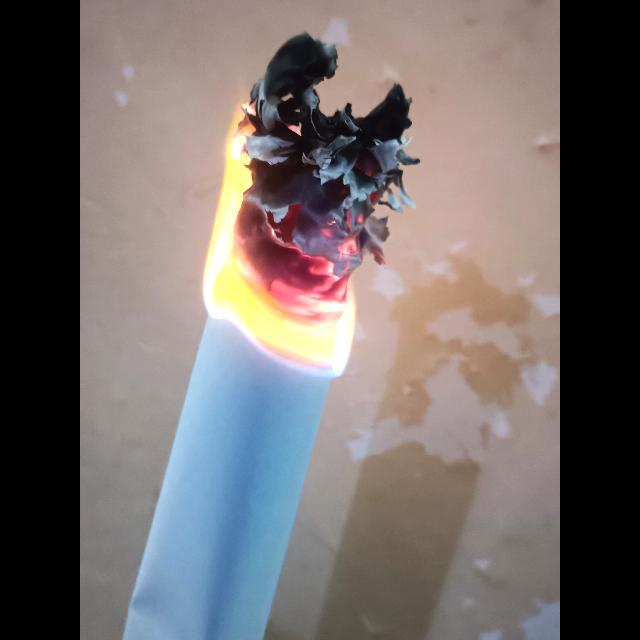fire: (205, 32, 420, 375)
